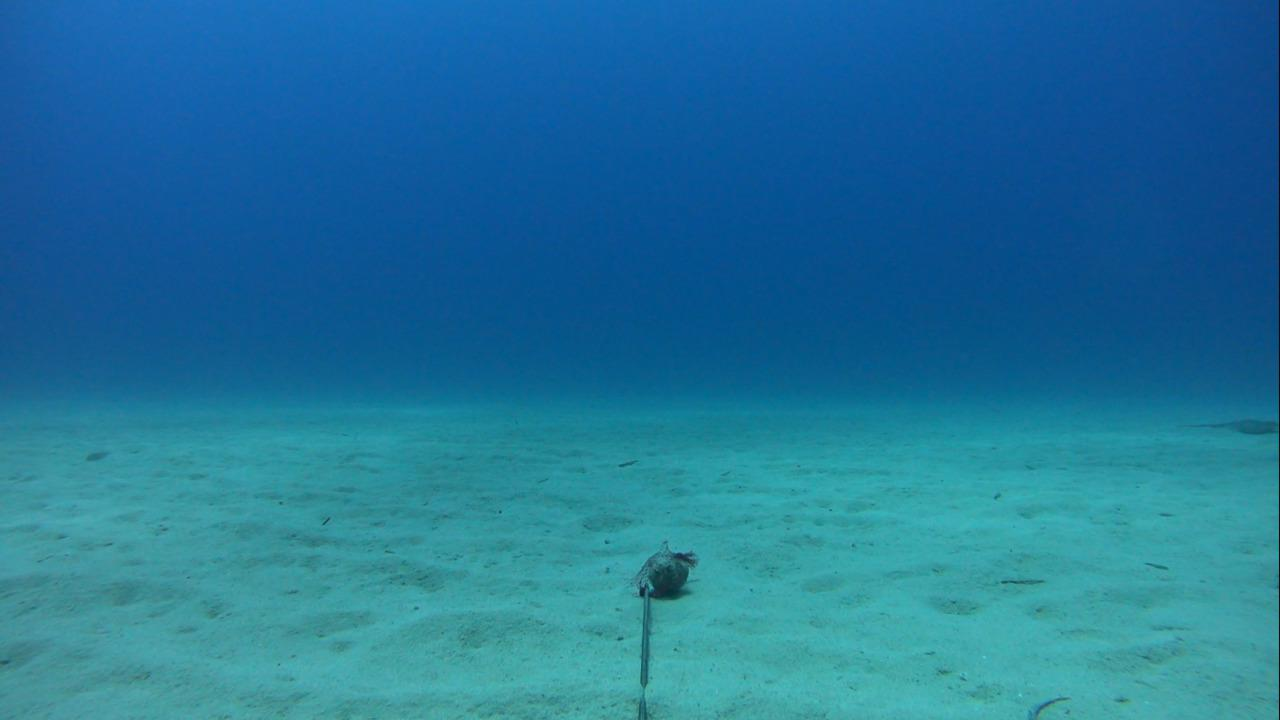myliobatis: (1165, 409, 1279, 447)
